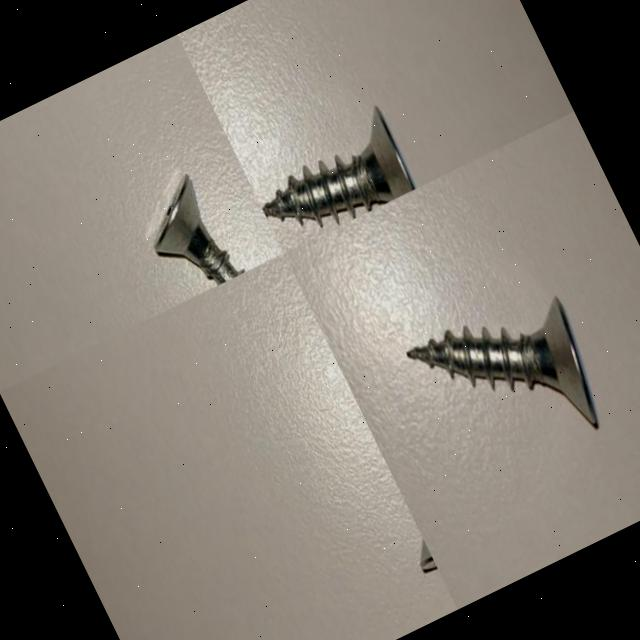Screw: (406, 296, 598, 427), (261, 105, 417, 225), (154, 174, 245, 285)
